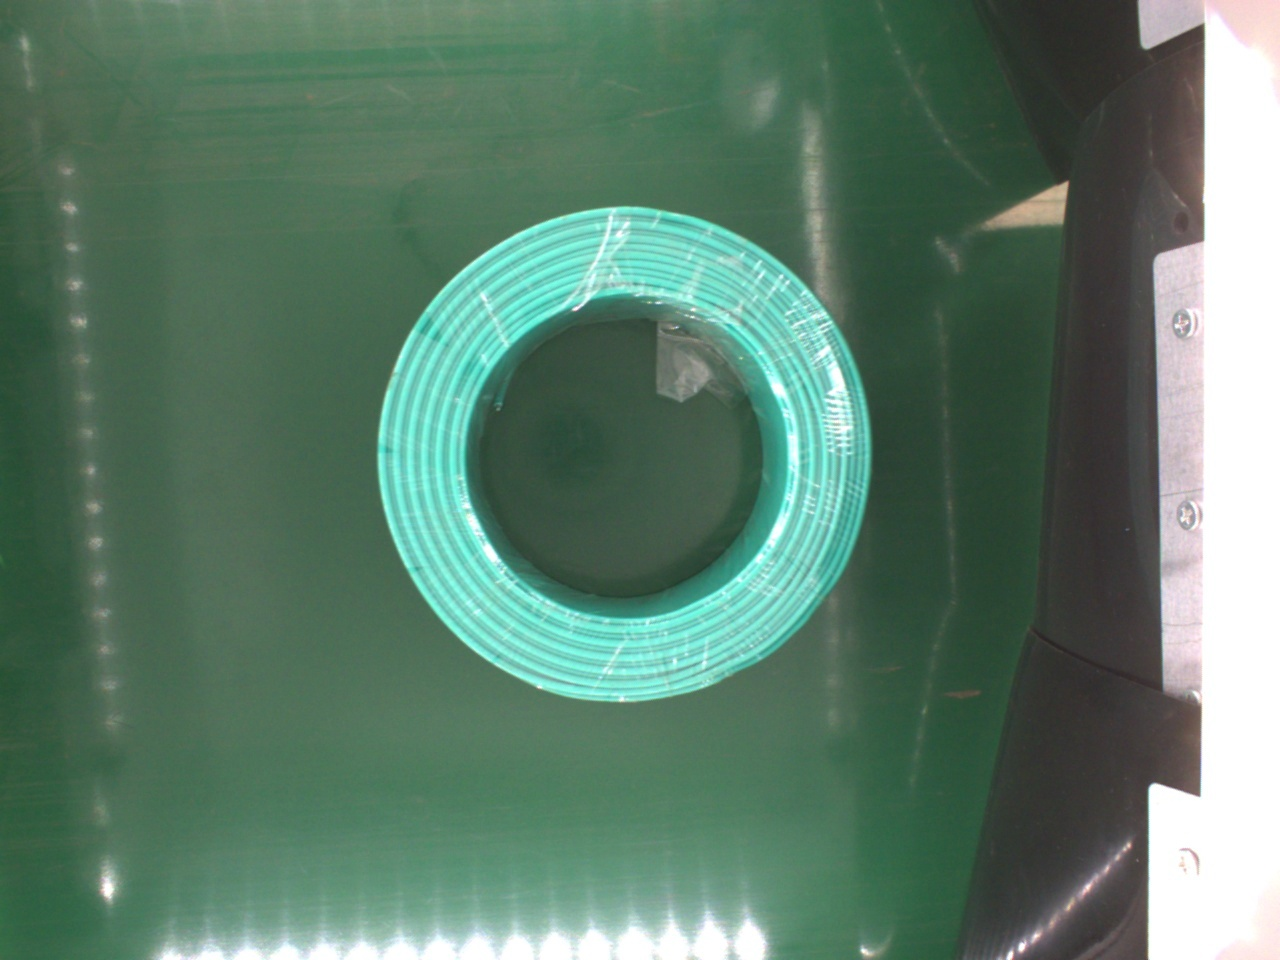green: (376, 206, 874, 706)
